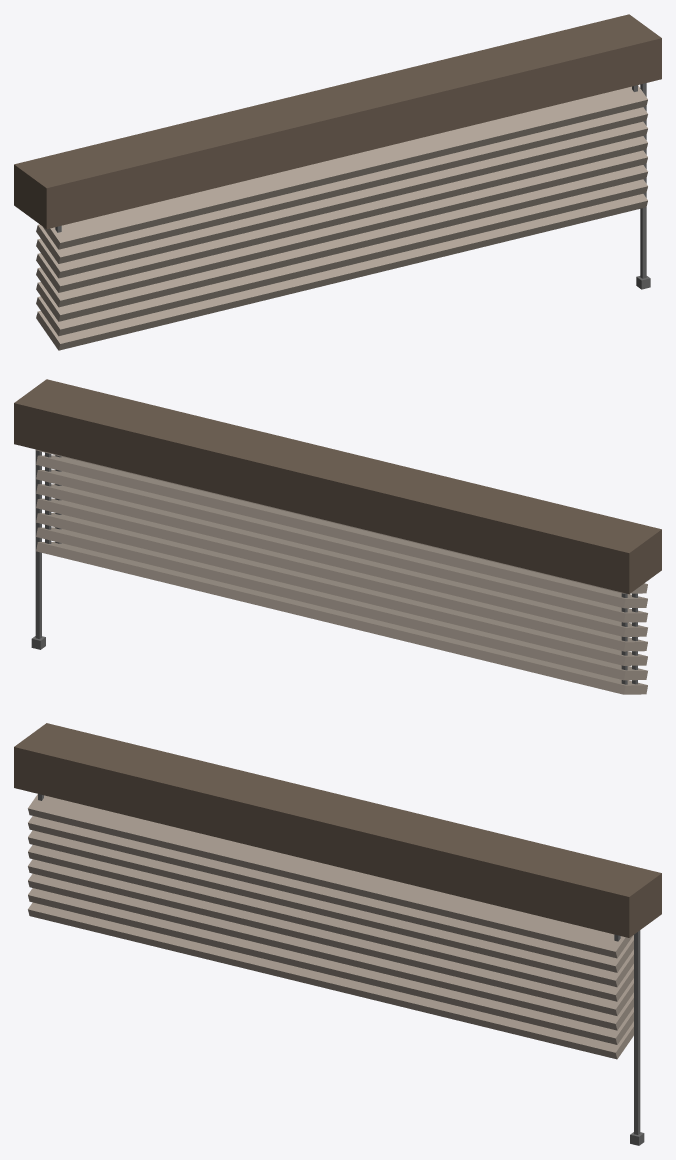
The model's file is Curtains14_C2.fbx.
3 views of the same model, one above another, from view 1: azimuth 30°, elevation 25°; view 2: azimuth 150°, elevation 25°; view 3: azimuth 330°, elevation 25° (orthographic).
Visible parts, largest first — view 1: Curtains14_C2; view 2: Curtains14_C2; view 3: Curtains14_C2.
Boxes of the visible parts, x1=… form: Curtains14_C2: x1=14, y1=14, x2=661, y2=350; Curtains14_C2: x1=14, y1=379, x2=661, y2=694; Curtains14_C2: x1=14, y1=723, x2=661, y2=1145.
Bounding box in the file's own units: 138 × 54.95 × 12.67.
